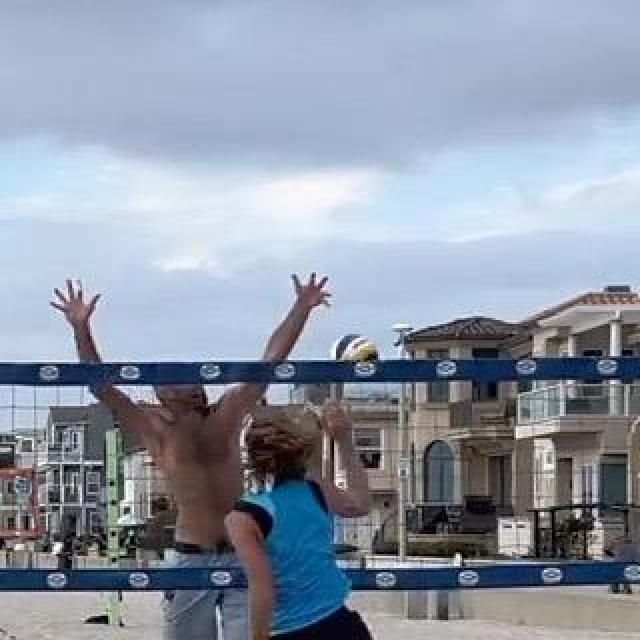volleyball: (331, 334, 379, 382)
